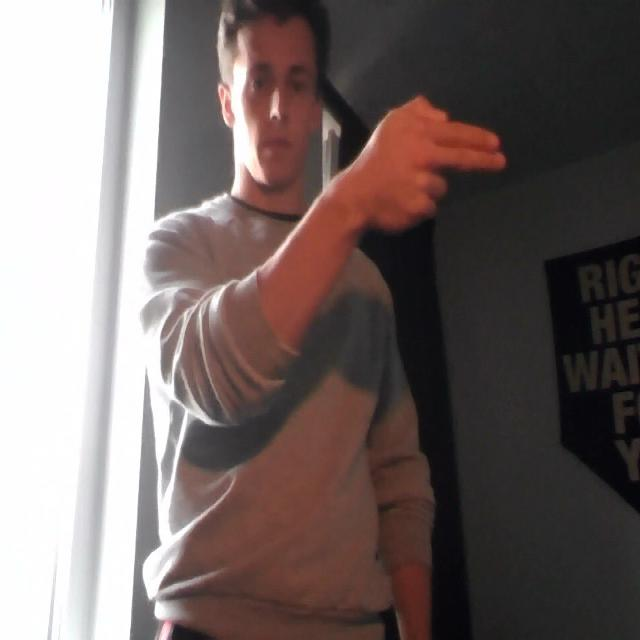right: (336, 86, 509, 241)
